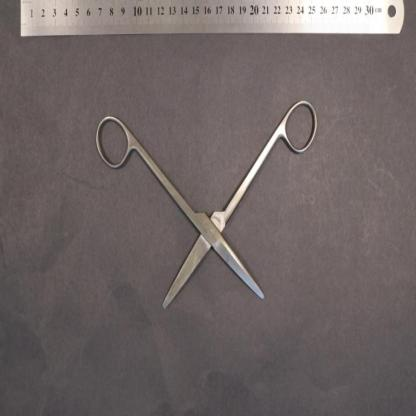Curved Mayo Scissors: (95, 98, 318, 311)
